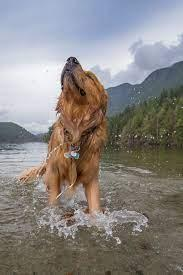Dog: (55, 55, 112, 113)
